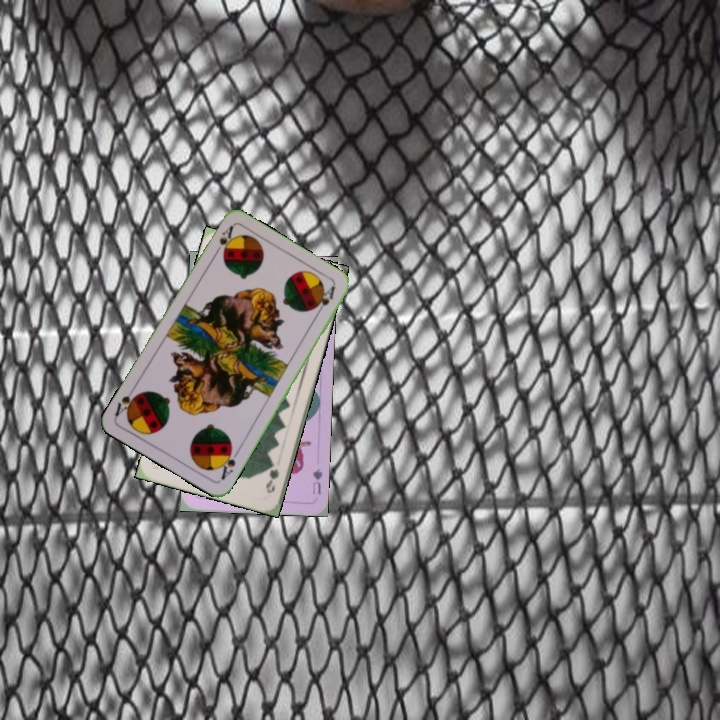G9: (262, 457, 282, 496)
GU: (308, 464, 325, 497)
SA: (215, 443, 242, 483), (210, 222, 236, 259)
